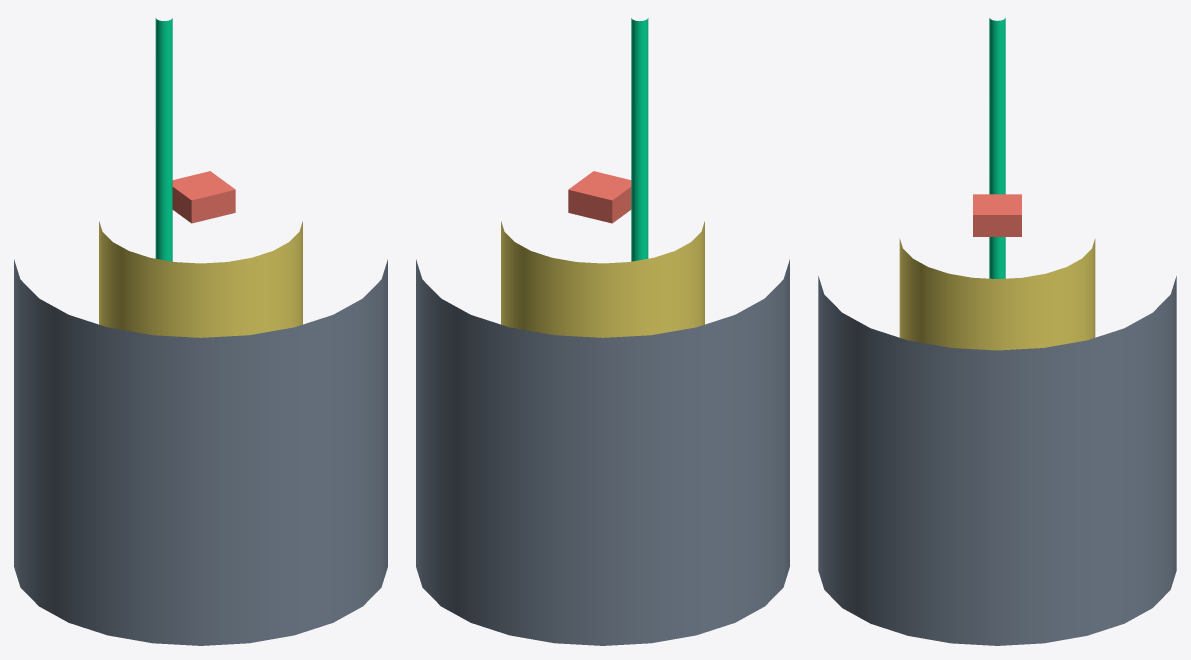
Rendered from flash_fire_point_abel_apparatus.glb.
3 renders of one model, left to right at view 1: azimuth 30°, elevation 25°; view 2: azimuth 150°, elevation 25°; view 3: azimuth 270°, elevation 25°, orthographic. The views are drawn at different scales.
Parts seen in each view (by area): view 1: AirChamberAndWaterBathHeater, AbelsClosedBrassOilCup, PrecisionMercuryThermometerStem, SlidingShutterTestFlamePilotBurner; view 2: AirChamberAndWaterBathHeater, AbelsClosedBrassOilCup, PrecisionMercuryThermometerStem, SlidingShutterTestFlamePilotBurner; view 3: AirChamberAndWaterBathHeater, AbelsClosedBrassOilCup, PrecisionMercuryThermometerStem, SlidingShutterTestFlamePilotBurner.
Boxes of the visible parts, <box> form: AirChamberAndWaterBathHeater: <box>14,259,387,645</box>; AbelsClosedBrassOilCup: <box>99,221,302,337</box>; PrecisionMercuryThermometerStem: <box>155,18,172,261</box>; SlidingShutterTestFlamePilotBurner: <box>172,171,235,223</box>; AirChamberAndWaterBathHeater: <box>416,259,789,645</box>; AbelsClosedBrassOilCup: <box>501,221,704,337</box>; PrecisionMercuryThermometerStem: <box>631,18,648,261</box>; SlidingShutterTestFlamePilotBurner: <box>568,171,631,223</box>; AirChamberAndWaterBathHeater: <box>818,276,1176,645</box>; AbelsClosedBrassOilCup: <box>899,238,1095,350</box>; PrecisionMercuryThermometerStem: <box>989,18,1005,278</box>; SlidingShutterTestFlamePilotBurner: <box>973,194,1021,236</box>.
Size of the model in its own units: 0.44 by 0.725 by 0.44.
